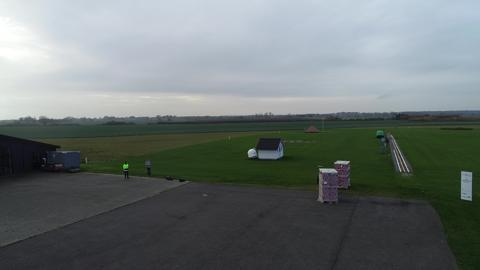RockwoolPallet: (334, 158, 351, 190)
